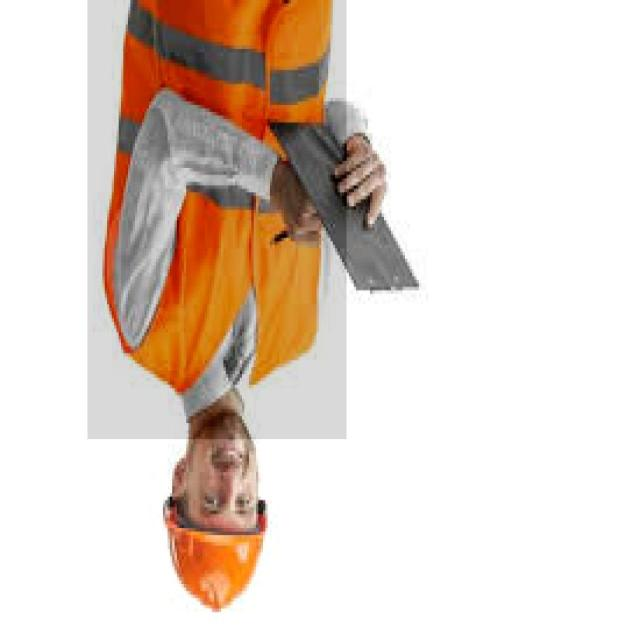Helmet: (134, 480, 295, 620)
Safety Vest: (88, 0, 346, 439)
